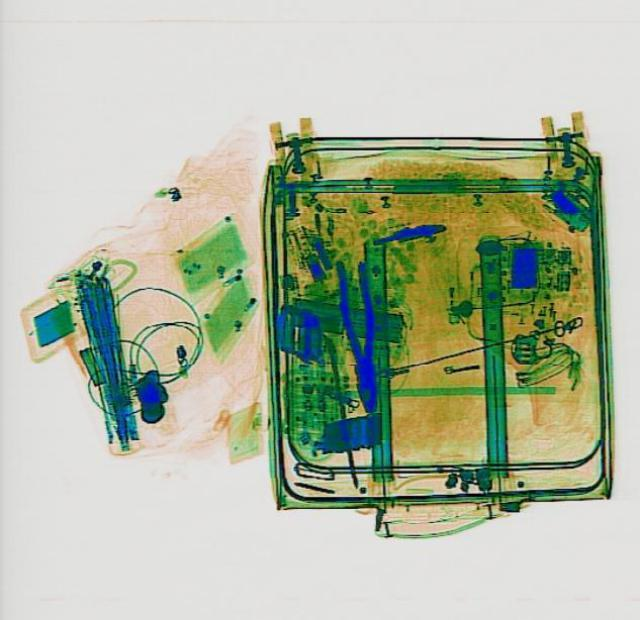Pliers: (329, 255, 386, 411)
